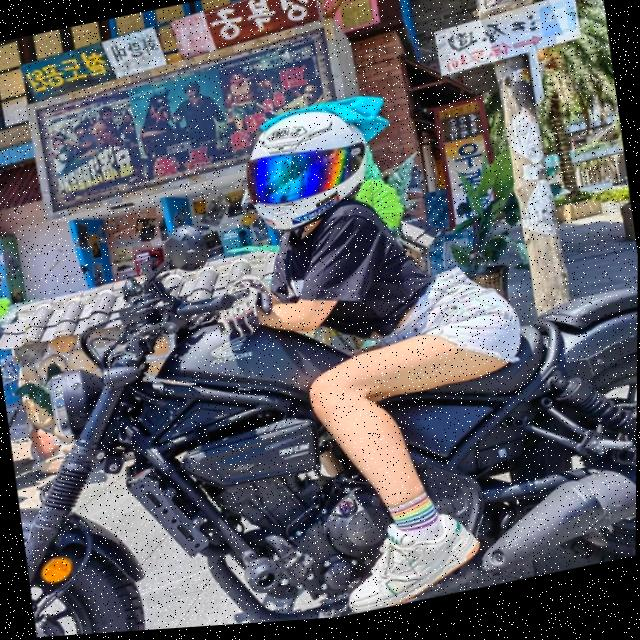helmet: (234, 99, 383, 247)
